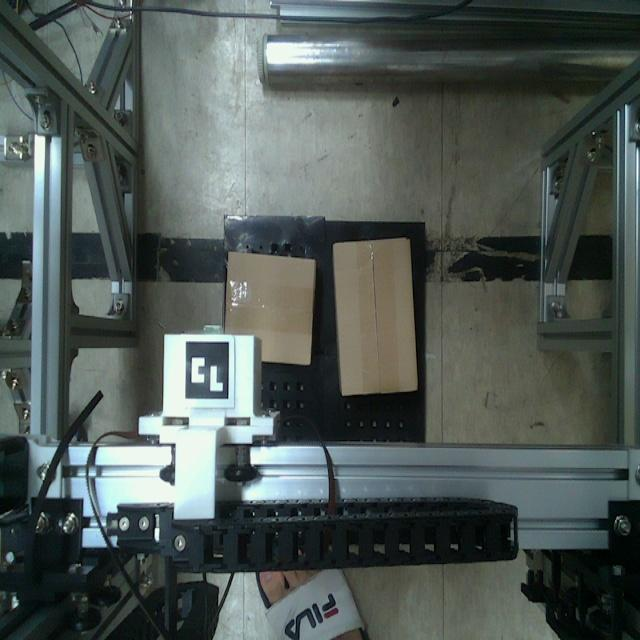box: (329, 233, 422, 400)
